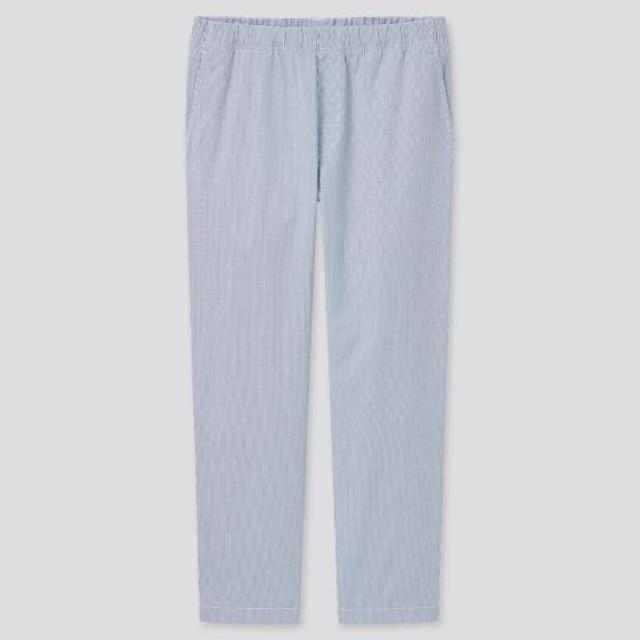long-pants: (184, 16, 457, 632)
